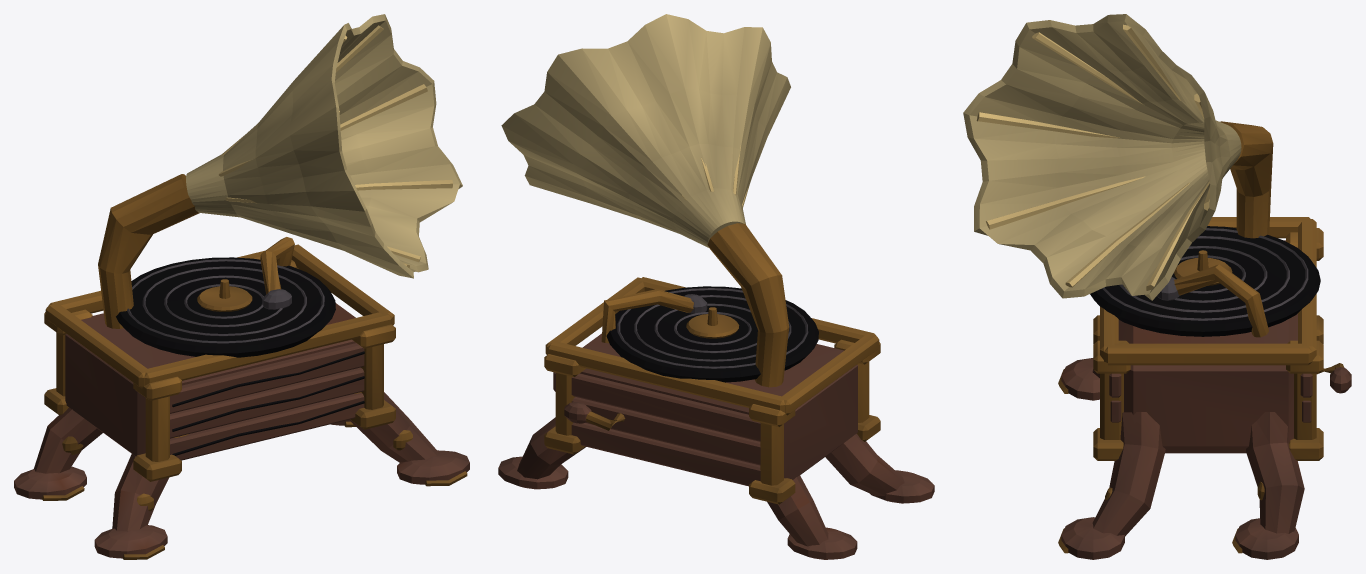
Rendered from pale_gramophone.fbx.
3 renders of one model, left to right at view 1: azimuth 30°, elevation 25°; view 2: azimuth 150°, elevation 25°; view 3: azimuth 270°, elevation 25°, orthographic. The views are drawn at different scales.
Visible parts, largest first — view 1: pale_gramophone; view 2: pale_gramophone; view 3: pale_gramophone.
Boxes of the visible parts, left/top/right/bottom form: pale_gramophone: left=14, top=14, right=469, bottom=559; pale_gramophone: left=498, top=14, right=934, bottom=559; pale_gramophone: left=963, top=14, right=1351, bottom=559.
Bounding box in the file's own units: 5.53 × 6.2 × 4.39.
